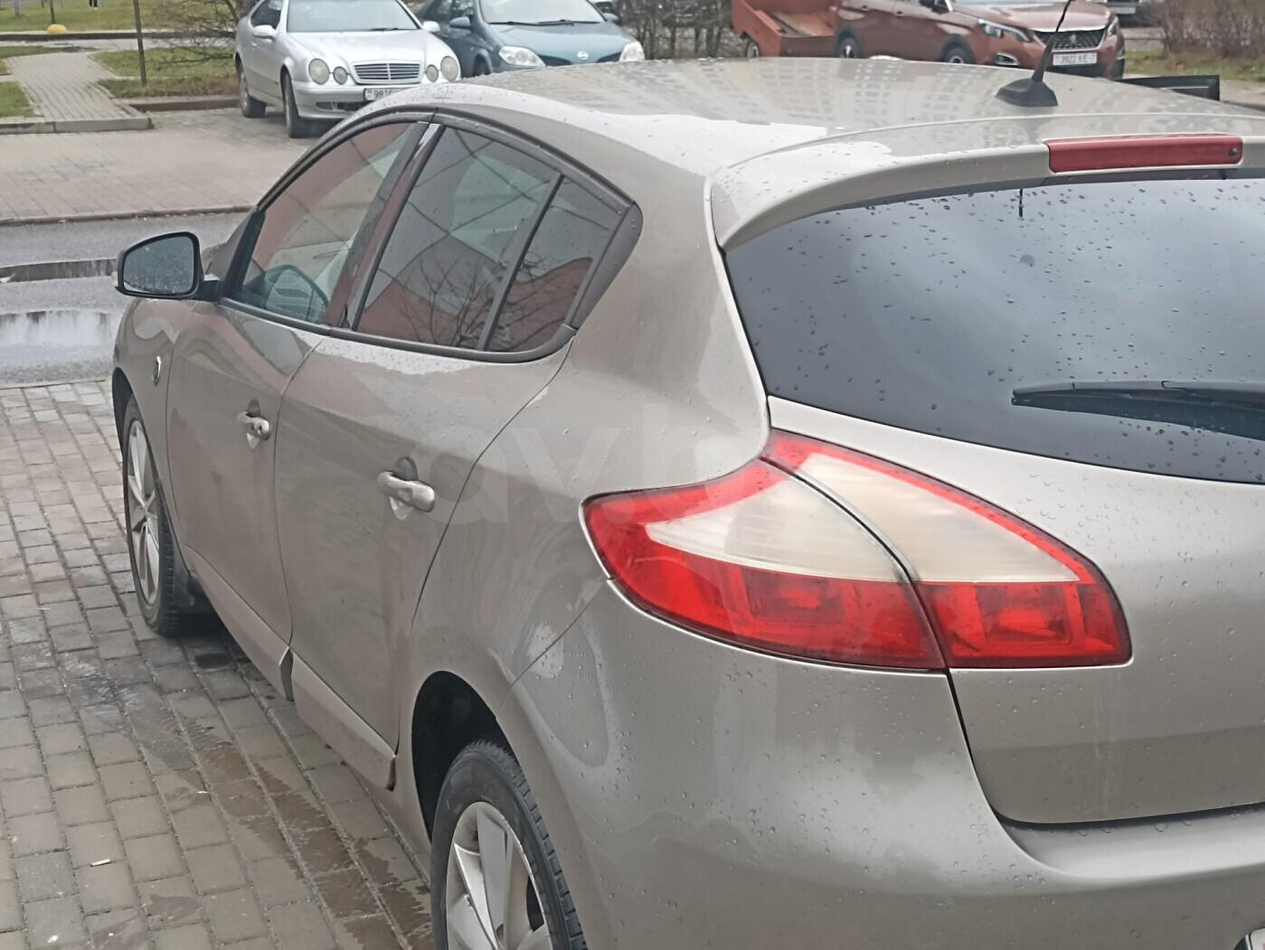Megane_2008-2014: (99, 61, 1265, 950)
